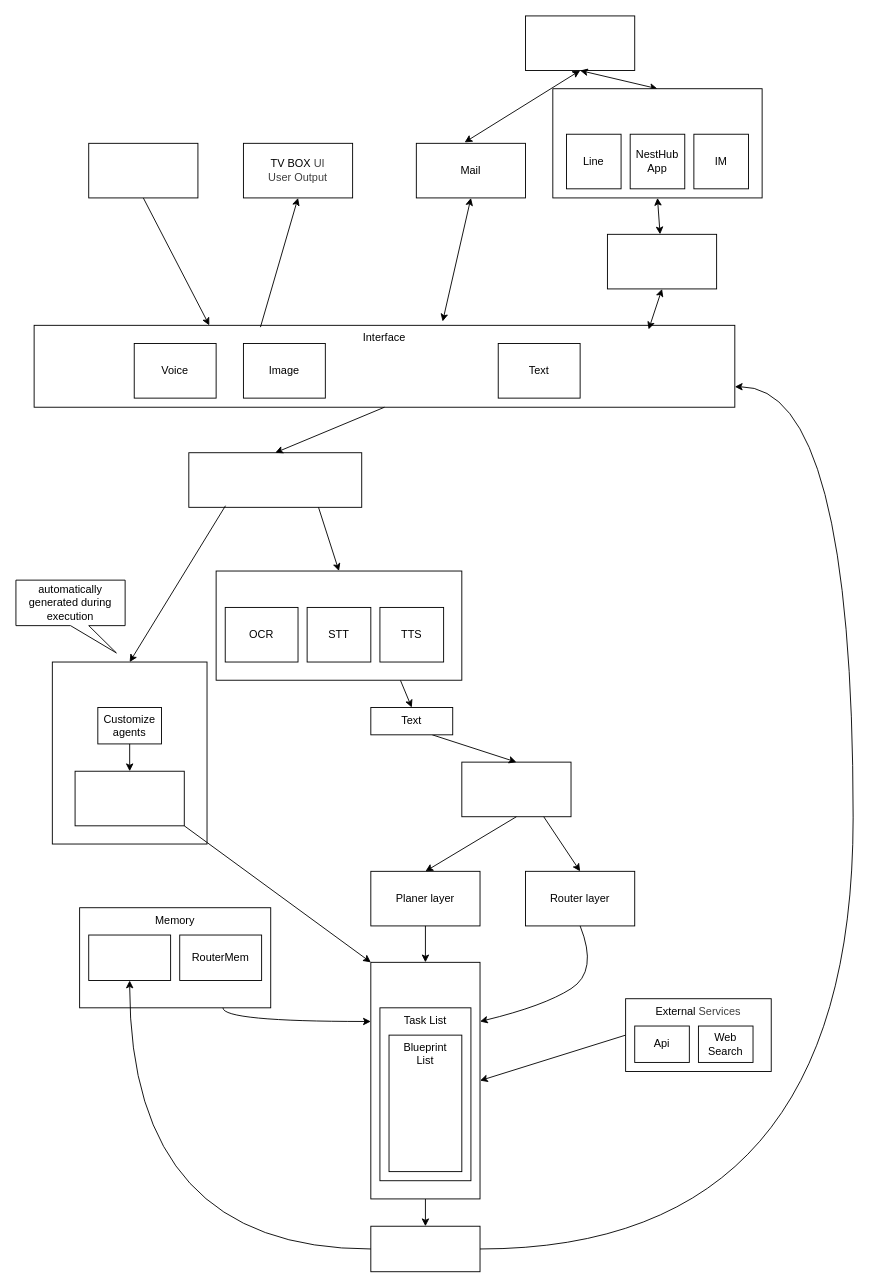
Image size: 869x1288. Some labels were removed from this diagram. Each missing label, with the box of its shape:
AI Brain: (461, 761, 571, 817)
API Layer: (607, 233, 717, 289)
Apps: (552, 88, 762, 198)
Blueprint: (74, 770, 184, 826)
Customize features: (51, 661, 207, 844)
External: (525, 15, 635, 71)
Factory WorkFlow: (370, 961, 480, 1199)
Feature: (188, 452, 362, 507)
fixed features: (215, 570, 462, 680)
Knowledge: (88, 934, 171, 981)
Response: (370, 1225, 480, 1272)
TV BOX UI User Input: (88, 142, 198, 198)
